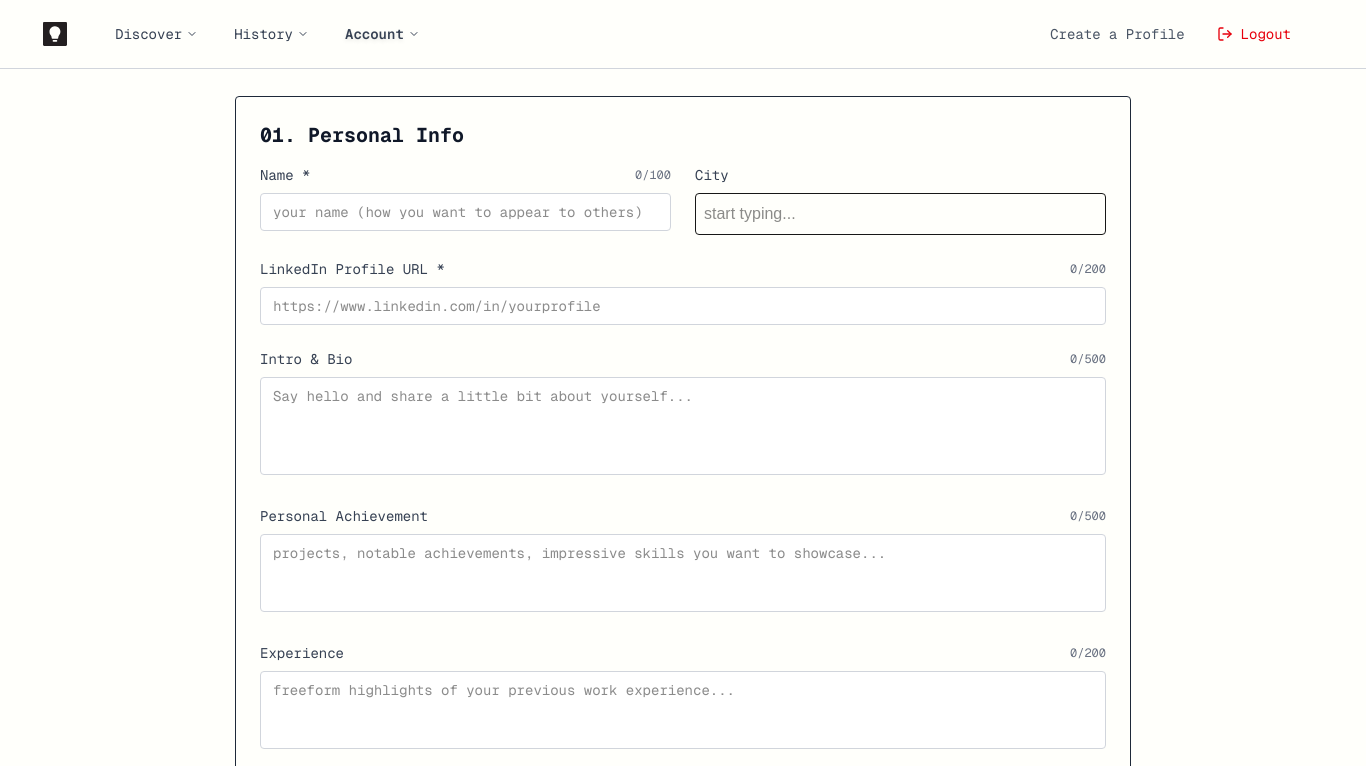
Test case: ProfilePage Integration Tests › should save profile as draft without generating embeddings
Fill in form fields
Type "Jane Smith" into the field with placeholder "your name (how you want to appear to others)" at (466, 212), box left=260, top=193, right=671, bottom=231
(page scrolled)
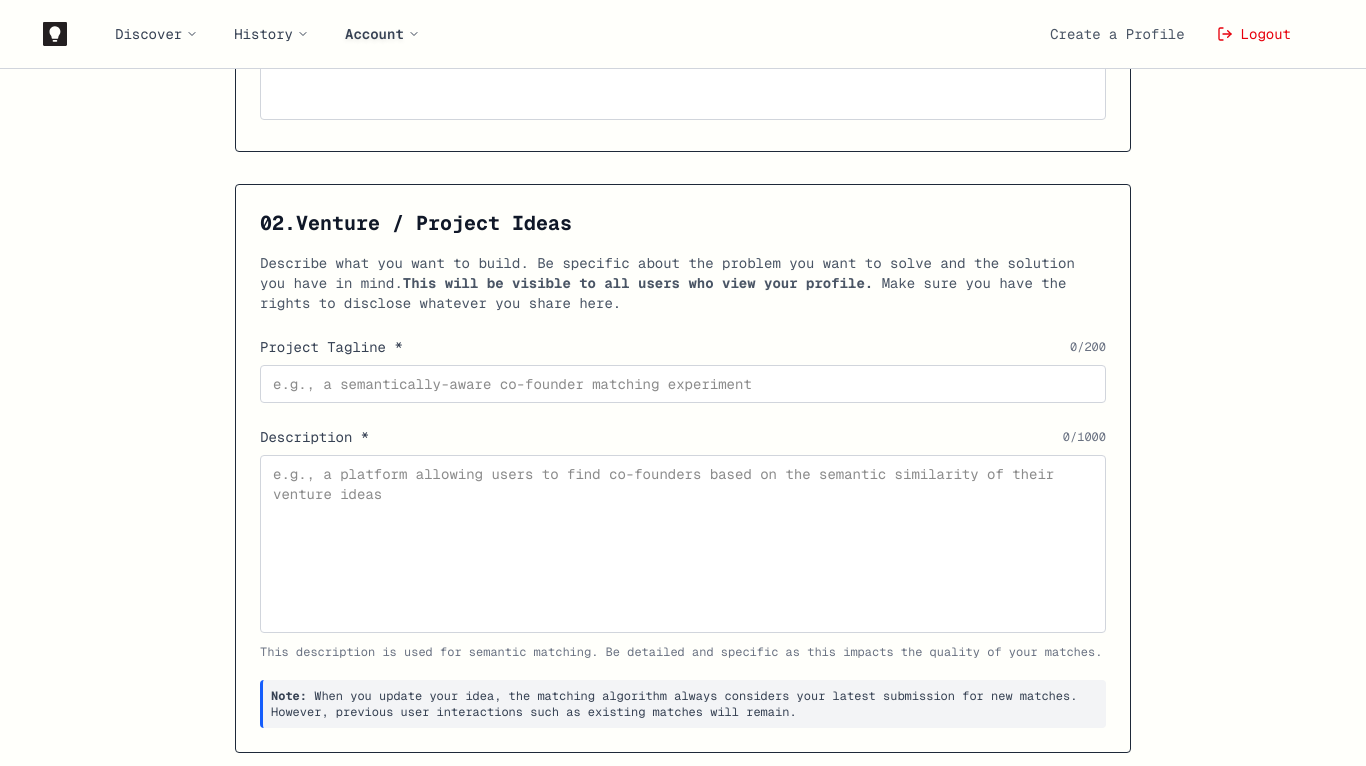
Type "DevTools Pro" into the field with placeholder "e.g., a semantically-aware co-founder matching experiment" at (683, 384), box left=260, top=365, right=1106, bottom=403
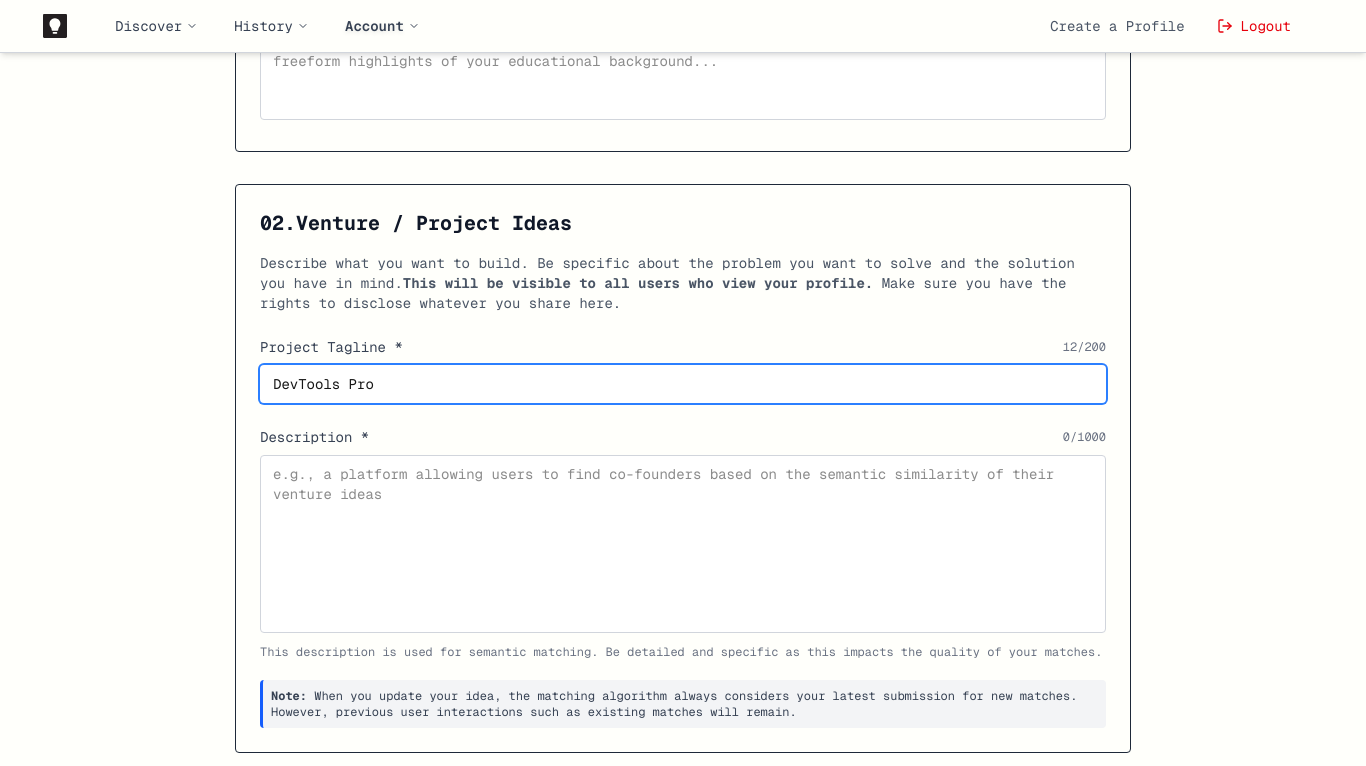
Type "A comprehensive development toolkit for modern teams" into the text box with placeholder "e.g., a platform allowing users to find co-founders based on the semantic similarity of their venture ideas" at (683, 544), box left=260, top=455, right=1106, bottom=633
(page scrolled)
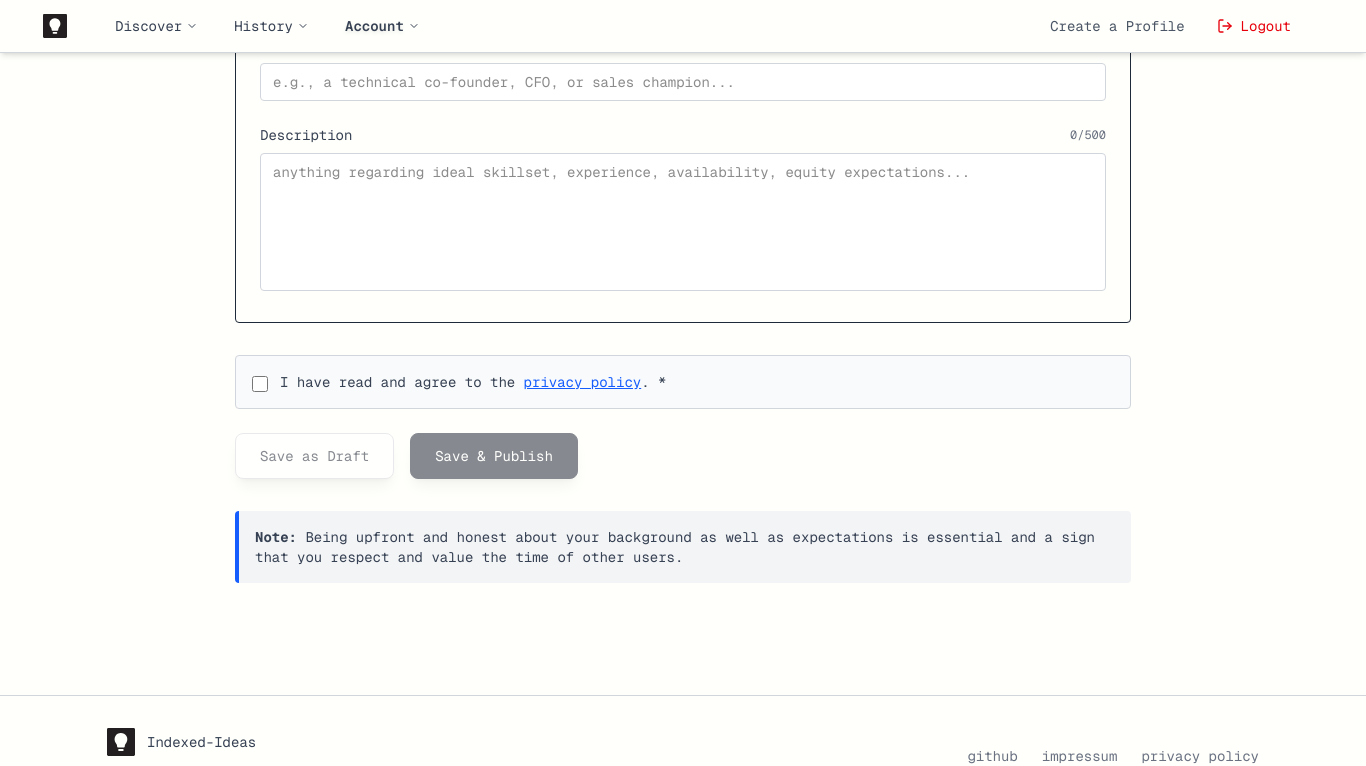
Click the checkbox labelled "I have read and agree to the privacy policy . *" at (260, 384), box left=252, top=376, right=268, bottom=392
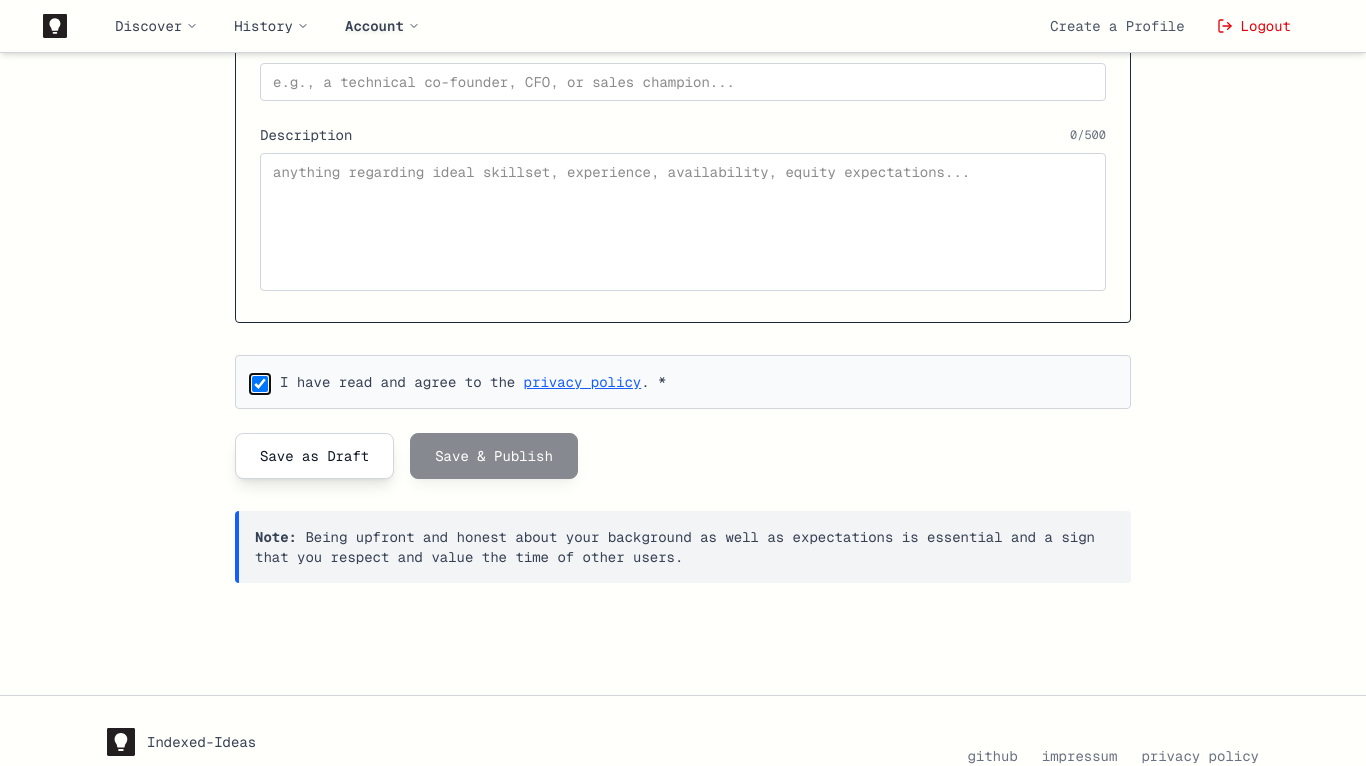
Click the button "Save as Draft" at (315, 456), box left=235, top=433, right=394, bottom=479
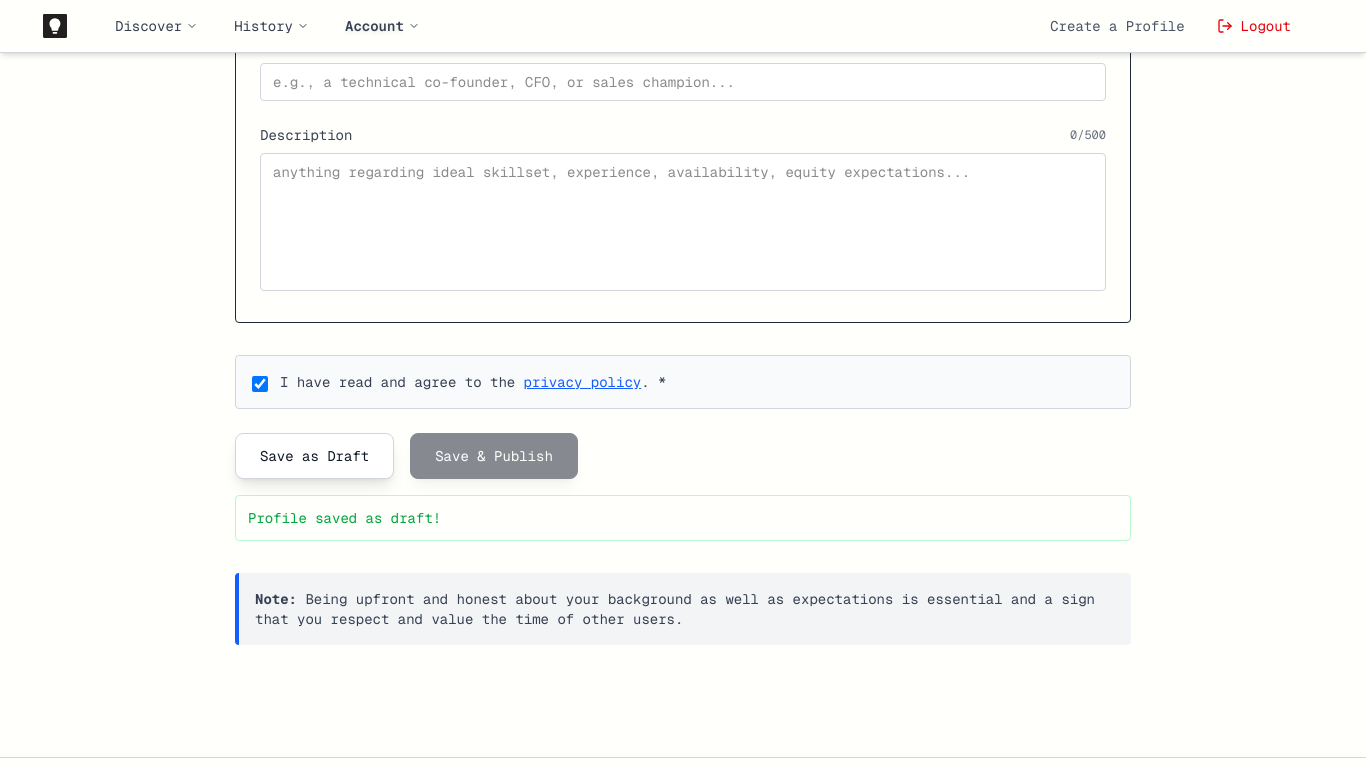
Result: the text "Profile saved as draft!" is shown at left=235, top=495, right=1131, bottom=541
